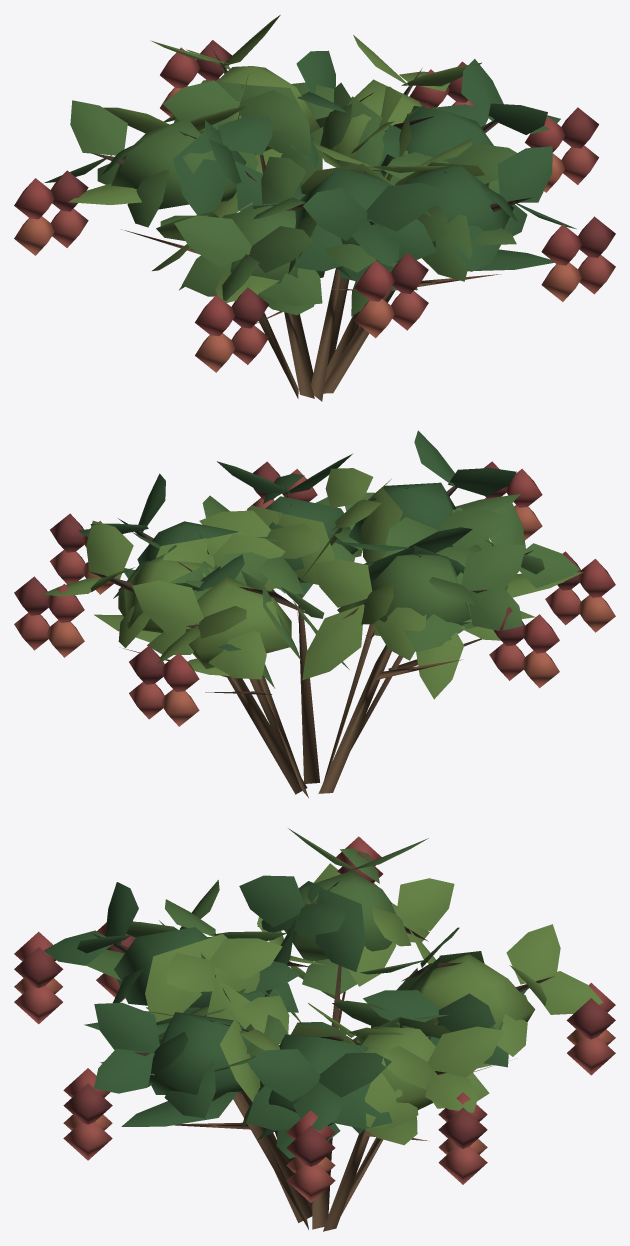
Rendered from woodland_bush_berry.glb.
3 renders of one model, top to bottom at view 1: azimuth 30°, elevation 25°; view 2: azimuth 150°, elevation 25°; view 3: azimuth 270°, elevation 25°, orthographic. The views are drawn at different scales.
Visible parts, largest first — view 1: body; view 2: body; view 3: body.
Boxes of the visible parts, box(x1,y1,x2,y2) form: body: box(14, 15, 615, 401); body: box(14, 430, 615, 797); body: box(14, 828, 615, 1231).
Bounding box in the file's own units: 1.51 × 0.7693 × 1.41.
